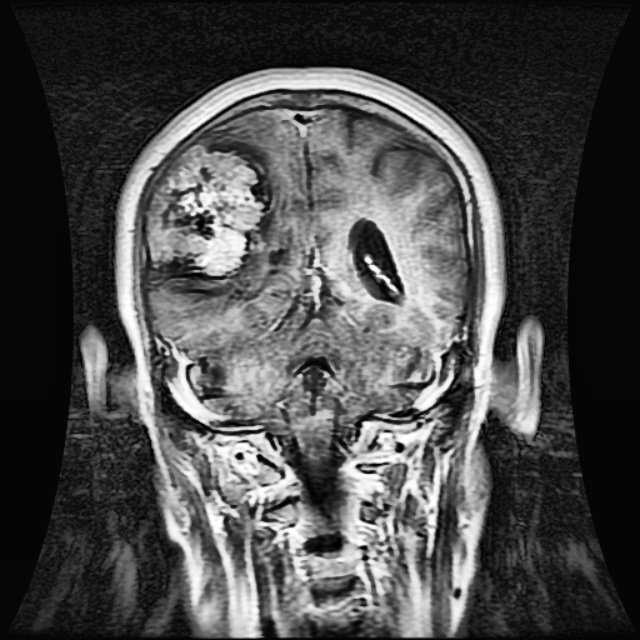Glioma: (147, 143, 264, 274)
